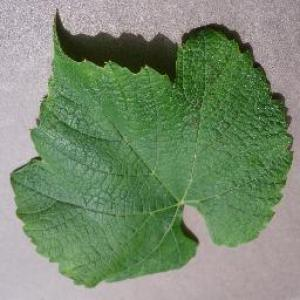Folha: (10, 7, 294, 288)
